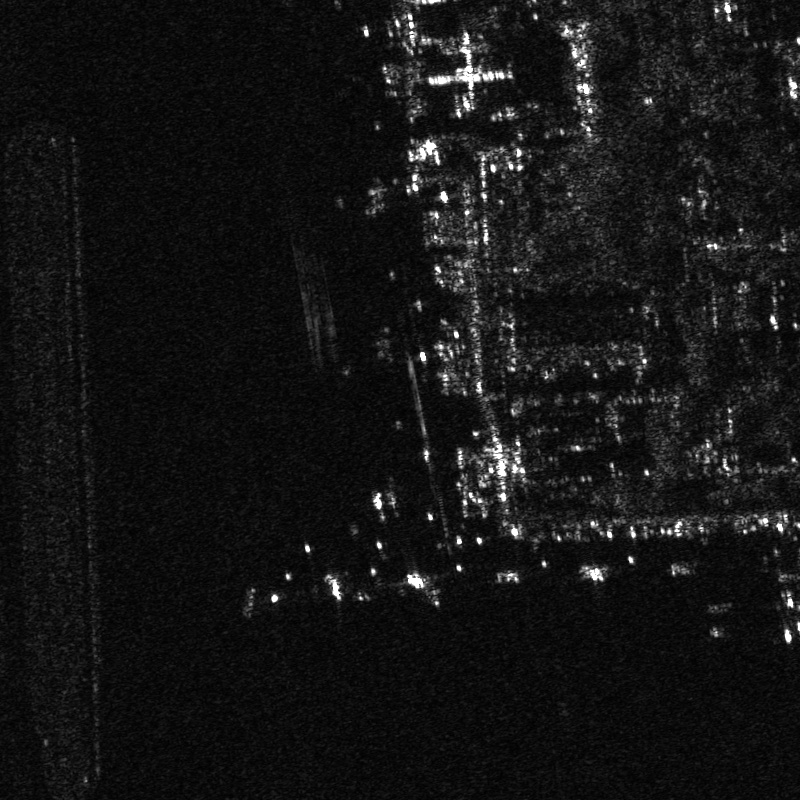ARJ21: (757, 566, 799, 646)
Boeing737: (389, 562, 455, 612)
